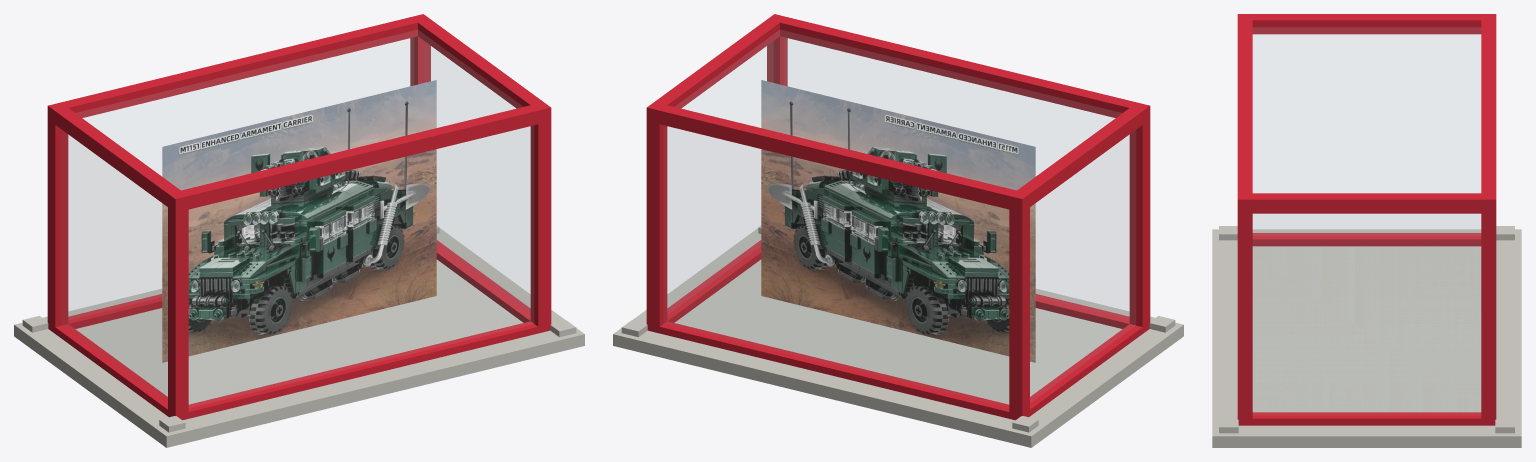
Rendered from usa-humvee-jeep.glb.
3 views of the same model, side by side, from view 1: azimuth 30°, elevation 25°; view 2: azimuth 150°, elevation 25°; view 3: azimuth 270°, elevation 25° (orthographic).
Size of the model in its own units: 0.225 by 0.1205 by 0.142.
Materials: 4 (1 with a texture image).
